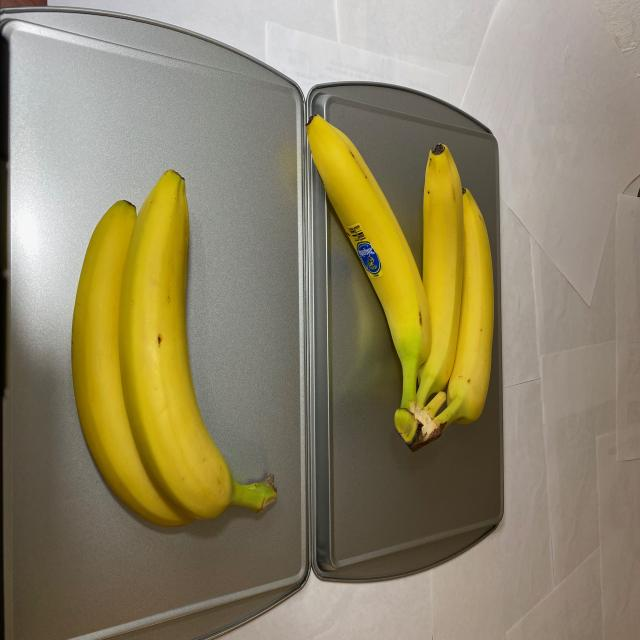banana: (69, 160, 281, 538), (303, 105, 494, 455)
